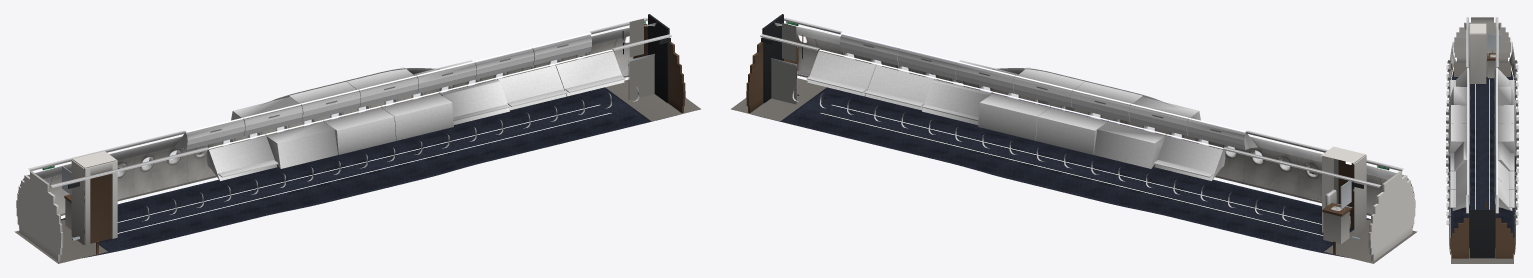
File: atr72-600-cabin.glb
3 views of the same model, side by side, from view 1: azimuth 30°, elevation 25°; view 2: azimuth 150°, elevation 25°; view 3: azimuth 270°, elevation 25° (orthographic). The views are drawn at different scales.
Parts seen in each view (by area): view 1: Cabin_Overhead, Cabin_Floor, Cabin_Monuments, Cabin_Lining, Cabin_Reveals; view 2: Cabin_Overhead, Cabin_Floor, Cabin_Monuments, Cabin_Lining, Cabin_Reveals; view 3: Cabin_Overhead, Cabin_Monuments, Cabin_Floor, Cabin_Reveals, Cabin_Lining.
Boxes of the visible parts, <box> form: Cabin_Overhead: <box>28,17,671,187</box>; Cabin_Floor: <box>14,79,700,263</box>; Cabin_Monuments: <box>16,14,685,261</box>; Cabin_Lining: <box>17,22,657,227</box>; Cabin_Reveals: <box>117,52,639,221</box>; Cabin_Overhead: <box>760,17,1403,187</box>; Cabin_Floor: <box>731,78,1417,263</box>; Cabin_Monuments: <box>746,14,1415,261</box>; Cabin_Lining: <box>774,22,1414,227</box>; Cabin_Reveals: <box>792,52,1317,221</box>; Cabin_Overhead: <box>1449,17,1515,213</box>; Cabin_Monuments: <box>1450,17,1514,258</box>; Cabin_Floor: <box>1448,61,1516,263</box>; Cabin_Reveals: <box>1446,60,1518,225</box>; Cabin_Lining: <box>1448,41,1516,254</box>.
Bounding box in the file's own units: 17.95 × 2.09 × 2.73.
Materials: 21 (7 with a texture image).
